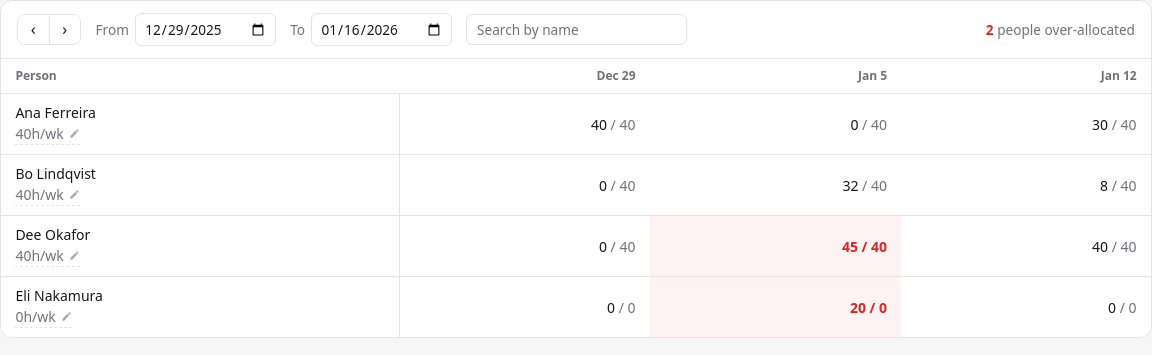
Test: search › scopes the over-allocated count to the results
Expected: the column heading "Ana Ferreira 40h/wk" is shown, x1=1 y1=94 x2=400 y2=155
Expected: the text "2" is shown, x1=986 y1=20 x2=994 y2=39
Note: Dee is over-allocated, so the count stays at one once Ana and Bo are gone.
Type "dee" into the search field labelled "Search by name" at (577, 29), box x1=466 y1=14 x2=687 y2=45
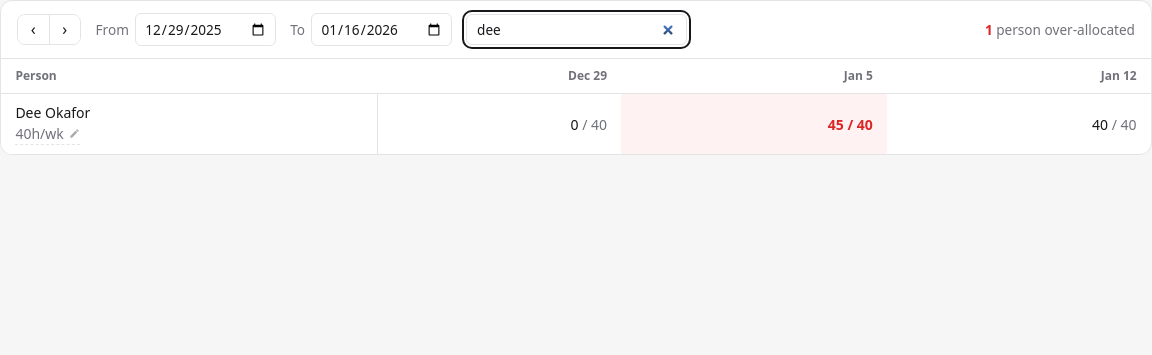
Expected: the text "1" is shown, x1=985 y1=20 x2=993 y2=39
